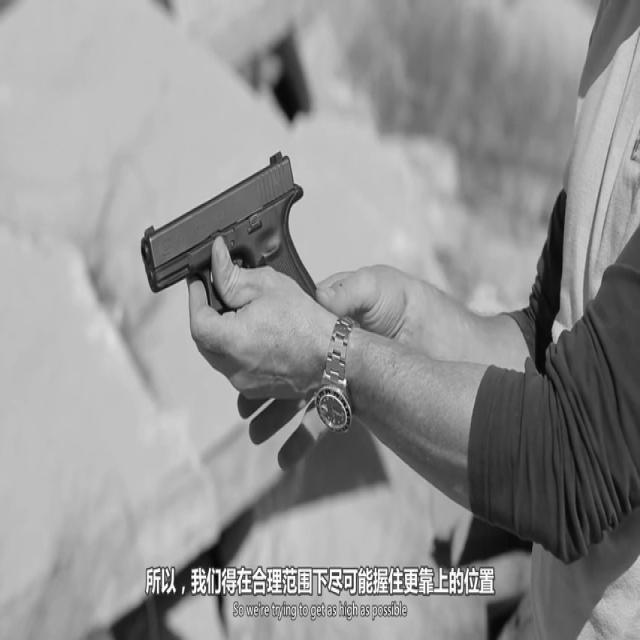Hand-Gun: (134, 134, 320, 388)
